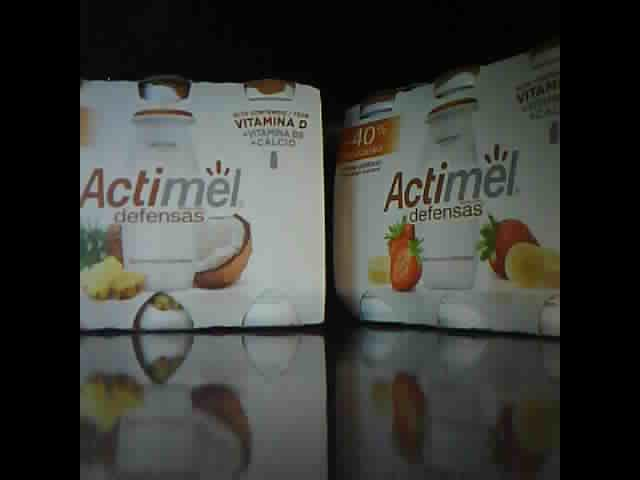actimel: (332, 47, 560, 340), (80, 77, 329, 334)
